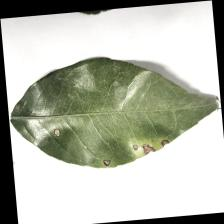canker: (44, 122, 174, 173)
